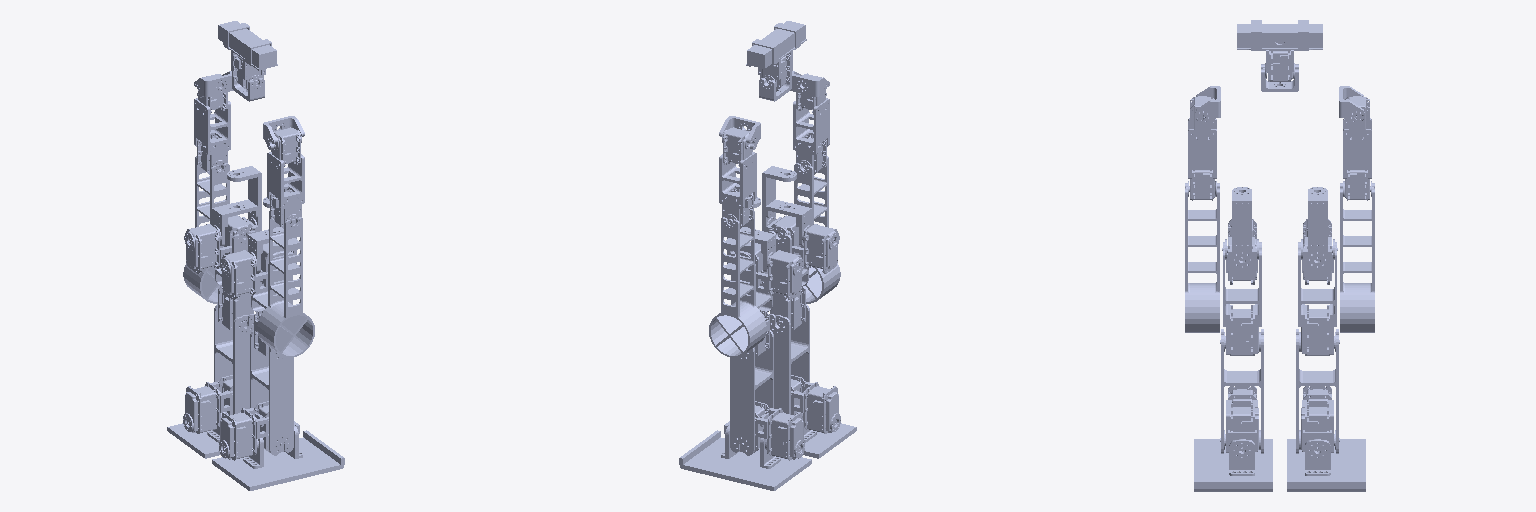
--- Render facts (derived) ---
The picture shows the robot from 3 angles, left to right: view 1: azimuth 30°, elevation 25°; view 2: azimuth 150°, elevation 25°; view 3: azimuth 270°, elevation 25°; orthographic projection.
Model kubot23W with 23 links and 22 joints (22 revolute), rooted at base_link, posed every joint at zero.
Visible links, largest first — view 1: R_hand_pitch, R_Knee, R_Foot, R_elbow_roll, L_Knee, L_elbow_roll, R_Ankle_pitch, head_pitch, L_hand_pitch, L_Hip_roll, L_Ankle_pitch, R_Hip_roll (+7 smaller); view 2: L_hand_pitch, L_Knee, L_Foot, L_elbow_roll, R_Knee, R_elbow_roll, L_Ankle_pitch, head_pitch, R_hand_pitch, R_Hip_roll, R_Ankle_pitch, L_Hip_roll (+7 smaller); view 3: L_hand_pitch, R_hand_pitch, head_pitch, L_Foot, R_Foot, L_Ankle_pitch, R_Ankle_pitch, R_Hip_pitch, L_Hip_pitch, L_elbow_roll, R_elbow_roll, L_Hip_yaw (+8 smaller).
Boxes of the visible links, left/top/right/bottom form: R_hand_pitch: left=257, top=211, right=314, bottom=357; R_Knee: left=250, top=330, right=293, bottom=455; R_Foot: left=212, top=430, right=344, bottom=490; R_elbow_roll: left=267, top=127, right=304, bottom=228; L_Knee: left=214, top=304, right=254, bottom=414; L_elbow_roll: left=194, top=74, right=230, bottom=174; R_Ankle_pitch: left=219, top=401, right=302, bottom=460; head_pitch: left=218, top=21, right=277, bottom=89; L_hand_pitch: left=183, top=156, right=229, bottom=303; L_Hip_roll: left=184, top=215, right=257, bottom=273; L_Ankle_pitch: left=183, top=375, right=232, bottom=433; R_Hip_roll: left=220, top=242, right=293, bottom=299; L_hand_pitch: left=709, top=211, right=766, bottom=357; L_Knee: left=730, top=330, right=773, bottom=455; L_Foot: left=679, top=430, right=811, bottom=490; L_elbow_roll: left=719, top=127, right=756, bottom=228; R_Knee: left=769, top=304, right=809, bottom=414; R_elbow_roll: left=793, top=73, right=829, bottom=174; L_Ankle_pitch: left=721, top=401, right=804, bottom=460; head_pitch: left=746, top=21, right=806, bottom=89; R_hand_pitch: left=794, top=156, right=840, bottom=303; R_Hip_roll: left=766, top=215, right=839, bottom=273; R_Ankle_pitch: left=791, top=375, right=840, bottom=433; L_Hip_roll: left=730, top=242, right=803, bottom=299; L_hand_pitch: left=1340, top=183, right=1374, bottom=332; R_hand_pitch: left=1185, top=183, right=1219, bottom=332; head_pitch: left=1237, top=20, right=1322, bottom=81; L_Foot: left=1287, top=439, right=1365, bottom=491; R_Foot: left=1194, top=439, right=1272, bottom=491; L_Ankle_pitch: left=1299, top=386, right=1339, bottom=475; R_Ankle_pitch: left=1220, top=386, right=1260, bottom=475; R_Hip_pitch: left=1220, top=242, right=1261, bottom=355; L_Hip_pitch: left=1298, top=242, right=1339, bottom=355; L_elbow_roll: left=1343, top=96, right=1373, bottom=200; R_elbow_roll: left=1186, top=96, right=1216, bottom=200; L_Hip_yaw: left=1308, top=187, right=1327, bottom=270.
Size in the robot's own frame: 0.1651 by 0.2643 by 0.6713 metres.
Meshes: 23 distinct files referenced, 22 mesh visuals loaded (22 binary STL); not drawn: 1 (reference not matched to a file when rendering).

URDF robot description (kubot23W):
<?xml version="1.0" encoding="utf-8"?>
<!-- This URDF was automatically created by SolidWorks to URDF Exporter! Originally created by Stephen Brawner ([email redacted]) 
     Commit Version: 1.6.0-1-g15f4949  Build Version: 1.6.7594.29634
     For more information, please see http://wiki.ros.org/sw_urdf_exporter -->
<robot
  name="kubot23W">
  <link
    name="base_link">
    <inertial>
      <origin
        xyz="-0.00019555 -5.8876E-06 -0.0016409"
        rpy="0 0 0" />
      <mass
        value="1.5013" />
      <inertia
        ixx="0.002447"
        ixy="0"
        ixz="0"
        iyy="0.0016369"
        iyz="0"
        izz="0.0026461" />
    </inertial>
    <visual>
      <origin
        xyz="0 0 0"
        rpy="0 0 0" />
      <geometry>
        <mesh
          filename="package://kubot23W/meshes/base_link.STL" />
      </geometry>
      <material
        name="">
        <color
          rgba="0.79216 0.81961 0.93333 1" />
      </material>
    </visual>
    <collision>
      <origin
        xyz="0 0 0"
        rpy="0 0 0" />
      <geometry>
        <mesh
          filename="package://kubot23W/meshes/base_link.STL" />
      </geometry>
    </collision>
  </link>
  <link
    name="L_Hip_yaw">
    <inertial>
      <origin
        xyz="0.0079905 7.3552E-16 0.037856"
        rpy="0 0 0" />
      <mass
        value="0.042373" />
      <inertia
        ixx="2.0934E-05"
        ixy="0"
        ixz="0"
        iyy="2.3301E-05"
        iyz="0"
        izz="8.0568E-06" />
    </inertial>
    <visual>
      <origin
        xyz="0 0 0"
        rpy="0 0 0" />
      <geometry>
        <mesh
          filename="package://kubot23W/meshes/L_Hip_yaw.STL" />
      </geometry>
      <material
        name="">
        <color
          rgba="0.79216 0.81961 0.93333 1" />
      </material>
    </visual>
    <collision>
      <origin
        xyz="0 0 0"
        rpy="0 0 0" />
      <geometry>
        <mesh
          filename="package://kubot23W/meshes/L_Hip_yaw.STL" />
      </geometry>
    </collision>
  </link>
  <joint
    name="L_Hip_yaw_joint"
    type="revolute">
    <origin
      xyz="0.036475 0.052758 -0.13016"
      rpy="0 0 0" />
    <parent
      link="base_link" />
    <child
      link="L_Hip_yaw" />
    <axis
      xyz="0 0 1" />
    <limit
      lower="0"
      upper="0"
      effort="0"
      velocity="0" />
  </joint>
  <link
    name="L_Hip_roll">
    <inertial>
      <origin
        xyz="-0.026534 3.8609E-05 -0.015186"
        rpy="0 0 0" />
      <mass
        value="0.16184" />
      <inertia
        ixx="5.7094E-05"
        ixy="0"
        ixz="0"
        iyy="5.6447E-05"
        iyz="0"
        izz="3.5594E-05" />
    </inertial>
    <visual>
      <origin
        xyz="0 0 0"
        rpy="0 0 0" />
      <geometry>
        <mesh
          filename="package://kubot23W/meshes/L_Hip_roll.STL" />
      </geometry>
      <material
        name="">
        <color
          rgba="0.79216 0.81961 0.93333 1" />
      </material>
    </visual>
    <collision>
      <origin
        xyz="0 0 0"
        rpy="0 0 0" />
      <geometry>
        <mesh
          filename="package://kubot23W/meshes/L_Hip_roll.STL" />
      </geometry>
    </collision>
  </link>
  <joint
    name="L_Hip_roll_joint"
    type="revolute">
    <origin
      xyz="0 0 0"
      rpy="0 0 0" />
    <parent
      link="L_Hip_yaw" />
    <child
      link="L_Hip_roll" />
    <axis
      xyz="-1 0 0" />
    <limit
      lower="0"
      upper="0"
      effort="0"
      velocity="0" />
  </joint>
  <link
    name="L_Hip_pitch">
    <inertial>
      <origin
        xyz="-0.00049308 0.00014975 -0.10339"
        rpy="0 0 0" />
      <mass
        value="0.13309" />
      <inertia
        ixx="0.00010704"
        ixy="0"
        ixz="0"
        iyy="7.9626E-05"
        iyz="0"
        izz="5.4203E-05" />
    </inertial>
    <visual>
      <origin
        xyz="0 0 0"
        rpy="0 0 0" />
      <geometry>
        <mesh
          filename="package://kubot23W/meshes/L_Hip_pitch.STL" />
      </geometry>
      <material
        name="">
        <color
          rgba="0.79216 0.81961 0.93333 1" />
      </material>
    </visual>
    <collision>
      <origin
        xyz="0 0 0"
        rpy="0 0 0" />
      <geometry>
        <mesh
          filename="package://kubot23W/meshes/L_Hip_pitch.STL" />
      </geometry>
    </collision>
  </link>
  <joint
    name="L_Hip_pitch_joint"
    type="revolute">
    <origin
      xyz="0 0 0"
      rpy="0 0 0" />
    <parent
      link="L_Hip_roll" />
    <child
      link="L_Hip_pitch" />
    <axis
      xyz="0 -1 0" />
    <limit
      lower="0"
      upper="0"
      effort="0"
      velocity="0" />
  </joint>
  <link
    name="L_Knee">
    <inertial>
      <origin
        xyz="-0.0008 0.0002 -0.071592"
        rpy="0 0 0" />
      <mass
        value="0.064192" />
      <inertia
        ixx="0.00017283"
        ixy="0"
        ixz="0"
        iyy="0.00013756"
        iyz="0"
        izz="5.3025E-05" />
    </inertial>
    <visual>
      <origin
        xyz="0 0 0"
        rpy="0 0 0" />
      <geometry>
        <mesh
          filename="package://kubot23W/meshes/L_Knee.STL" />
      </geometry>
      <material
        name="">
        <color
          rgba="0.79216 0.81961 0.93333 1" />
      </material>
    </visual>
    <collision>
      <origin
        xyz="0 0 0"
        rpy="0 0 0" />
      <geometry>
        <mesh
          filename="package://kubot23W/meshes/L_Knee.STL" />
      </geometry>
    </collision>
  </link>
  <joint
    name="L_Knee_joint"
    type="revolute">
    <origin
      xyz="0 0 -0.142"
      rpy="0 0 0" />
    <parent
      link="L_Hip_pitch" />
    <child
      link="L_Knee" />
    <axis
      xyz="0 -1 0" />
    <limit
      lower="0"
      upper="0"
      effort="0"
      velocity="0" />
  </joint>
  <link
    name="L_Ankle_pitch">
    <inertial>
      <origin
        xyz="-0.023428 0.00014947 0.013986"
        rpy="0 0 0" />
      <mass
        value="0.202" />
      <inertia
        ixx="8.0067E-05"
        ixy="0"
        ixz="0"
        iyy="7.8271E-05"
        iyz="0"
        izz="4.9146E-05" />
    </inertial>
    <visual>
      <origin
        xyz="0 0 0"
        rpy="0 0 0" />
      <geometry>
        <mesh
          filename="package://kubot23W/meshes/L_Ankle_pitch.STL" />
      </geometry>
      <material
        name="">
        <color
          rgba="0.79216 0.81961 0.93333 1" />
      </material>
    </visual>
    <collision>
      <origin
        xyz="0 0 0"
        rpy="0 0 0" />
      <geometry>
        <mesh
          filename="package://kubot23W/meshes/L_Ankle_pitch.STL" />
      </geometry>
    </collision>
  </link>
  <joint
    name="L_Ankle_pitch_joint"
    type="revolute">
    <origin
      xyz="0 0 -0.15"
      rpy="0 0 0" />
    <parent
      link="L_Knee" />
    <child
      link="L_Ankle_pitch" />
    <axis
      xyz="0 -1 0" />
    <limit
      lower="0"
      upper="0"
      effort="0"
      velocity="0" />
  </joint>
  <link
    name="L_Ankle_roll">
    <inertial>
      <origin
        xyz="-0.028824 0.0001 -0.014117"
        rpy="0 0 0" />
      <mass
        value="0.010759" />
      <inertia
        ixx="3.5206E-06"
        ixy="0"
        ixz="0"
        iyy="2.4389E-06"
        iyz="0"
        izz="1.2851E-06" />
    </inertial>
    <visual>
      <origin
        xyz="0 0 0"
        rpy="0 0 0" />
      <geometry>
        <mesh
          filename="package://kubot23W/meshes/L_Ankle_roll.STL" />
      </geometry>
      <material
        name="">
        <color
          rgba="0.79216 0.81961 0.93333 1" />
      </material>
    </visual>
    <collision>
      <origin
        xyz="0 0 0"
        rpy="0 0 0" />
      <geometry>
        <mesh
          filename="package://kubot23W/meshes/L_Ankle_roll.STL" />
      </geometry>
    </collision>
  </link>
  <joint
    name="L_Ankle_roll_joint"
    type="revolute">
    <origin
      xyz="0 0 0"
      rpy="0 0 0" />
    <parent
      link="L_Ankle_pitch" />
    <child
      link="L_Ankle_roll" />
    <axis
      xyz="-1 0 0" />
    <limit
      lower="0"
      upper="0"
      effort="0"
      velocity="0" />
  </joint>
  <link
    name="L_Foot">
    <inertial>
      <origin
        xyz="0.0059202 0.012819 0.0039506"
        rpy="0 0 0" />
      <mass
        value="0.12872" />
      <inertia
        ixx="0.00013117"
        ixy="0"
        ixz="0"
        iyy="0.00029696"
        iyz="0"
        izz="0.00042612" />
    </inertial>
    <visual>
      <origin
        xyz="0 0 0"
        rpy="0 0 0" />
      <geometry>
        <mesh
          filename="package://kubot23W/meshes/L_Foot.STL" />
      </geometry>
      <material
        name="">
        <color
          rgba="0.79216 0.81961 0.93333 1" />
      </material>
    </visual>
    <collision>
      <origin
        xyz="0 0 0"
        rpy="0 0 0" />
      <geometry>
        <mesh
          filename="package://kubot23W/meshes/L_Foot.STL" />
      </geometry>
    </collision>
  </link>
  <joint
    name="L_Foot_joint"
    type="revolute">
    <origin
      xyz="0 0 -0.042"
      rpy="0 0 0" />
    <parent
      link="L_Ankle_roll" />
    <child
      link="L_Foot" />
    <axis
      xyz="0 0 1" />
    <limit
      lower="0"
      upper="0"
      effort="0"
      velocity="0" />
  </joint>
  <link
    name="R_Hip_yaw">
    <inertial>
      <origin
        xyz="0.0079905 -7.6661E-09 0.037856"
        rpy="0 0 0" />
      <mass
        value="0.042373" />
      <inertia
        ixx="2.0934E-05"
        ixy="0"
        ixz="0"
        iyy="2.3301E-05"
        iyz="0"
        izz="8.0568E-06" />
    </inertial>
    <visual>
      <origin
        xyz="0 0 0"
        rpy="0 0 0" />
      <geometry>
        <mesh
          filename="package://kubot23W/meshes/R_Hip_yaw.STL" />
      </geometry>
      <material
        name="">
        <color
          rgba="0.79216 0.81961 0.93333 1" />
      </material>
    </visual>
    <collision>
      <origin
        xyz="0 0 0"
        rpy="0 0 0" />
      <geometry>
        <mesh
          filename="package://kubot23W/meshes/R_Hip_yaw.STL" />
      </geometry>
    </collision>
  </link>
  <joint
    name="R_Hip_yaw_joint"
    type="revolute">
    <origin
      xyz="0.036475 -0.051842 -0.13016"
      rpy="0 0 0" />
    <parent
      link="base_link" />
    <child
      link="R_Hip_yaw" />
    <axis
      xyz="0 0 1" />
    <limit
      lower="0"
      upper="0"
      effort="0"
      velocity="0" />
  </joint>
  <link
    name="R_Hip_roll">
    <inertial>
      <origin
        xyz="-0.026534 -3.8626E-05 -0.015186"
        rpy="0 0 0" />
      <mass
        value="0.16184" />
      <inertia
        ixx="5.7094E-05"
        ixy="0"
        ixz="0"
        iyy="5.6447E-05"
        iyz="0"
        izz="3.5594E-05" />
    </inertial>
    <visual>
      <origin
        xyz="0 0 0"
        rpy="0 0 0" />
      <geometry>
        <mesh
          filename="package://kubot23W/meshes/R_Hip_roll.STL" />
      </geometry>
      <material
        name="">
        <color
          rgba="0.79216 0.81961 0.93333 1" />
      </material>
    </visual>
    <collision>
      <origin
        xyz="0 0 0"
        rpy="0 0 0" />
      <geometry>
        <mesh
          filename="package://kubot23W/meshes/R_Hip_roll.STL" />
      </geometry>
    </collision>
  </link>
  <joint
    name="R_Hip_roll_joint"
    type="revolute">
    <origin
      xyz="0 0 0"
      rpy="0 0 0" />
    <parent
      link="R_Hip_yaw" />
    <child
      link="R_Hip_roll" />
    <axis
      xyz="-1 0 0" />
    <limit
      lower="0"
      upper="0"
      effort="0"
      velocity="0" />
  </joint>
  <link
    name="R_Hip_pitch">
    <inertial>
      <origin
        xyz="-0.0004978 -0.00014978 -0.10339"
        rpy="0 0 0" />
      <mass
        value="0.13309" />
      <inertia
        ixx="0.00010704"
        ixy="0"
        ixz="0"
        iyy="7.9626E-05"
        iyz="0"
        izz="5.4203E-05" />
    </inertial>
    <visual>
      <origin
        xyz="0 0 0"
        rpy="0 0 0" />
      <geometry>
        <mesh
          filename="package://kubot23W/meshes/R_Hip_pitch.STL" />
      </geometry>
      <material
        name="">
        <color
          rgba="0.79216 0.81961 0.93333 1" />
      </material>
    </visual>
    <collision>
      <origin
        xyz="0 0 0"
        rpy="0 0 0" />
      <geometry>
        <mesh
          filename="package://kubot23W/meshes/R_Hip_pitch.STL" />
      </geometry>
    </collision>
  </link>
  <joint
    name="R_Hip_pitch_joint"
    type="revolute">
    <origin
      xyz="0 0 0"
      rpy="0 0 0" />
    <parent
      link="R_Hip_roll" />
    <child
      link="R_Hip_pitch" />
    <axis
      xyz="0 1 0" />
    <limit
      lower="0"
      upper="0"
      effort="0"
      velocity="0" />
  </joint>
  <link
    name="R_Knee">
    <inertial>
      <origin
        xyz="-0.0008 -0.00020005 -0.071592"
        rpy="0 0 0" />
      <mass
        value="0.064192" />
      <inertia
        ixx="0.00017283"
        ixy="0"
        ixz="0"
        iyy="0.00013756"
        iyz="0"
        izz="5.3025E-05" />
    </inertial>
    <visual>
      <origin
        xyz="0 0 0"
        rpy="0 0 0" />
      <geometry>
        <mesh
          filename="package://kubot23W/meshes/R_Knee.STL" />
      </geometry>
      <material
        name="">
        <color
          rgba="0.79216 0.81961 0.93333 1" />
      </material>
    </visual>
    <collision>
      <origin
        xyz="0 0 0"
        rpy="0 0 0" />
      <geometry>
        <mesh
          filename="package://kubot23W/meshes/R_Knee.STL" />
      </geometry>
    </collision>
  </link>
  <joint
    name="R_Knee_joint"
    type="revolute">
    <origin
      xyz="0 0 -0.142"
      rpy="0 0 0" />
    <parent
      link="R_Hip_pitch" />
    <child
      link="R_Knee" />
    <axis
      xyz="0 1 0" />
    <limit
      lower="0"
      upper="0"
      effort="0"
      velocity="0" />
  </joint>
  <link
    name="R_Ankle_pitch">
    <inertial>
      <origin
        xyz="-0.023731 -0.00015295 0.01407"
        rpy="0 0 0" />
      <mass
        value="0.20079" />
      <inertia
        ixx="7.9929E-05"
        ixy="0"
        ixz="0"
        iyy="7.8201E-05"
        iyz="0"
        izz="4.9077E-05" />
    </inertial>
    <visual>
      <origin
        xyz="0 0 0"
        rpy="0 0 0" />
      <geometry>
        <mesh
          filename="package://kubot23W/meshes/R_Ankle_pitch.STL" />
      </geometry>
      <material
        name="">
        <color
          rgba="0.79216 0.81961 0.93333 1" />
      </material>
    </visual>
    <collision>
      <origin
        xyz="0 0 0"
        rpy="0 0 0" />
      <geometry>
        <mesh
          filename="package://kubot23W/meshes/R_Ankle_pitch.STL" />
      </geometry>
    </collision>
  </link>
  <joint
    name="R_Ankle_pitch_joint"
    type="revolute">
    <origin
      xyz="0 0 -0.15"
      rpy="0 0 0" />
    <parent
      link="R_Knee" />
    <child
      link="R_Ankle_pitch" />
    <axis
      xyz="0 1 0" />
    <limit
      lower="0"
      upper="0"
      effort="0"
      velocity="0" />
  </joint>
  <link
    name="R_Ankle_roll">
    <inertial>
      <origin
        xyz="-0.028824 -0.00010006 -0.014117"
        rpy="0 0 0" />
      <mass
        value="0.010759" />
      <inertia
        ixx="3.5206E-06"
        ixy="0"
        ixz="0"
        iyy="2.4389E-06"
        iyz="0"
        izz="1.2851E-06" />
    </inertial>
    <visual>
      <origin
        xyz="0 0 0"
        rpy="0 0 0" />
      <geometry>
        <mesh
          filename="package://kubot23W/meshes/R_Ankle_roll.STL" />
      </geometry>
      <material
        name="">
        <color
          rgba="0.79216 0.81961 0.93333 1" />
      </material>
    </visual>
    <collision>
      <origin
        xyz="0 0 0"
        rpy="0 0 0" />
      <geometry>
        <mesh
          filename="package://kubot23W/meshes/R_Ankle_roll.STL" />
      </geometry>
    </collision>
  </link>
  <joint
    name="R_Ankle_roll_joint"
    type="revolute">
    <origin
      xyz="0 0 0"
      rpy="0 0 0" />
    <parent
      link="R_Ankle_pitch" />
    <child
      link="R_Ankle_roll" />
    <axis
      xyz="-1 0 0" />
    <limit
      lower="0"
      upper="0"
      effort="0"
      velocity="0" />
  </joint>
  <link
    name="R_Foot">
    <inertial>
      <origin
        xyz="0.0059202 -0.012819 0.0039506"
        rpy="0 0 0" />
      <mass
        value="0.12872" />
      <inertia
        ixx="0.00013117"
        ixy="0"
        ixz="0"
        iyy="0.00029696"
        iyz="0"
        izz="0.00042612" />
    </inertial>
    <visual>
      <origin
        xyz="0 0 0"
        rpy="0 0 0" />
      <geometry>
        <mesh
          filename="package://kubot23W/meshes/R_Foot.STL" />
      </geometry>
      <material
        name="">
        <color
          rgba="0.79216 0.81961 0.93333 1" />
      </material>
    </visual>
    <collision>
      <origin
        xyz="0 0 0"
        rpy="0 0 0" />
      <geometry>
        <mesh
          filename="package://kubot23W/meshes/R_Foot.STL" />
      </geometry>
    </collision>
  </link>
  <joint
    name="R_Foot_joint"
    type="revolute">
    <origin
      xyz="0 0 -0.042"
      rpy="0 0 0" />
    <parent
      link="R_Ankle_roll" />
    <child
      link="R_Foot" />
    <axis
      xyz="0 0 1" />
    <limit
      lower="0"
      upper="0"
      effort="0"
      velocity="0" />
  </joint>
  <link
    name="L_shoulder_pitch">
    <inertial>
      <origin
        xyz="9.7314E-10 0.010248 -0.0016377"
        rpy="0 0 0" />
      <mass
        value="0.014469" />
      <inertia
        ixx="2.0393E-06"
        ixy="0"
        ixz="0"
        iyy="6.5772E-06"
        iyz="0"
        izz="6.757E-06" />
    </inertial>
    <visual>
      <origin
        xyz="0 0 0"
        rpy="0 0 0" />
      <geometry>
        <mesh
          filename="package://kubot23W/meshes/L_shoulder_pitch.STL" />
      </geometry>
      <material
        name="">
        <color
          rgba="0.79216 0.81961 0.93333 1" />
      </material>
    </visual>
    <collision>
      <origin
        xyz="0 0 0"
        rpy="0 0 0" />
      <geometry>
        <mesh
          filename="package://kubot23W/meshes/L_shoulder_pitch.STL" />
      </geometry>
    </collision>
  </link>
  <joint
    name="L_shoulder_pitch_joint"
    type="revolute">
    <origin
      xyz="0.027975 0.082208 0.091918"
      rpy="0 0 0" />
    <parent
      link="base_link" />
    <child
      link="L_shoulder_pitch" />
    <axis
      xyz="0 -1 0" />
    <limit
      lower="0"
      upper="0"
      effort="0"
      velocity="0" />
  </joint>
  <link
    name="L_elbow_roll">
    <inertial>
      <origin
        xyz="-0.02074 1.0217E-05 -0.061881"
        rpy="0 0 0" />
      <mass
        value="0.12312" />
      <inertia
        ixx="4.1405E-05"
        ixy="0"
        ixz="0"
        iyy="4.4134E-05"
        iyz="0"
        izz="2.9326E-05" />
    </inertial>
    <visual>
      <origin
        xyz="0 0 0"
        rpy="0 0 0" />
      <geometry>
        <mesh
          filename="package://kubot23W/meshes/L_elbow_roll.STL" />
      </geometry>
      <material
        name="">
        <color
          rgba="0.79216 0.81961 0.93333 1" />
      </material>
    </visual>
    <collision>
      <origin
        xyz="0 0 0"
        rpy="0 0 0" />
      <geometry>
        <mesh
          filename="package://kubot23W/meshes/L_elbow_roll.STL" />
      </geometry>
    </collision>
  </link>
  <joint
    name="L_elbow_roll_joint"
    type="revolute">
    <origin
      xyz="0.020275 0.025656 -0.01045"
      rpy="0 0 0" />
    <parent
      link="L_shoulder_pitch" />
    <child
      link="L_elbow_roll" />
    <axis
      xyz="-1 0 0" />
    <limit
      lower="0"
      upper="0"
      effort="0"
      velocity="0" />
  </joint>
  <link
    name="L_hand_pitch">
    <inertial>
      <origin
        xyz="1.6376E-15 -0.020275 -0.13605"
        rpy="0 0 0" />
      <mass
        value="0.085842" />
      <inertia
        ixx="0.00035605"
        ixy="0"
        ixz="0"
        iyy="0.00035569"
        iyz="0"
        izz="4.765E-05" />
    </inertial>
    <visual>
      <origin
        xyz="0 0 0"
        rpy="0 0 0" />
      <geometry>
        <mesh
          filename="package://kubot23W/meshes/L_hand_pitch.STL" />
      </geometry>
      <material
        name="">
        <color
          rgba="0.79216 0.81961 0.93333 1" />
      </material>
    </visual>
    <collision>
      <origin
        xyz="0 0 0"
        rpy="0 0 0" />
      <geometry>
        <mesh
          filename="package://kubot23W/meshes/L_hand_pitch.STL" />
      </geometry>
    </collision>
  </link>
  <joint
    name="L_hand_pitch_joint"
    type="revolute">
    <origin
      xyz="-0.02075 0.02075 -0.1231"
      rpy="0 0 0" />
    <parent
      link="L_elbow_roll" />
    <child
      link="L_hand_pitch" />
    <axis
      xyz="0 -1 0" />
    <limit
      lower="0"
      upper="0"
      effort="0"
      velocity="0" />
  </joint>
  <link
    name="R_shoulder_pitch">
    <inertial>
      <origin
        xyz="-9.7314E-10 -0.010248 -0.0016377"
        rpy="0 0 0" />
      <mass
        value="0.014469" />
      <inertia
        ixx="2.0393E-06"
        ixy="0"
        ixz="0"
        iyy="6.5772E-06"
        iyz="0"
        izz="6.757E-06" />
    </inertial>
    <visual>
      <origin
        xyz="0 0 0"
        rpy="0 0 0" />
      <geometry>
        <mesh
          filename="package://kubot23W/meshes/R_shoulder_pitch.STL" />
      </geometry>
      <material
        name="">
        <color
          rgba="0.79216 0.81961 0.93333 1" />
      </material>
    </visual>
    <collision>
      <origin
        xyz="0 0 0"
        rpy="0 0 0" />
      <geometry>
        <mesh
          filename="package://kubot23W/meshes/R_shoulder_pitch.STL" />
      </geometry>
    </collision>
  </link>
  <joint
    name="R_shoulder_pitch_joint"
    type="revolute">
    <origin
      xyz="0.027975 -0.081292 0.091918"
      rpy="0 0 0" />
    <parent
      link="base_link" />
    <child
      link="R_shoulder_pitch" />
    <axis
      xyz="0 1 0" />
    <limit
      lower="0"
      upper="0"
      effort="0"
      velocity="0" />
  </joint>
  <link
    name="R_elbow_roll">
    <inertial>
      <origin
        xyz="-0.020741 -8.7962E-06 -0.061881"
        rpy="0 0 0" />
      <mass
        value="0.12312" />
      <inertia
        ixx="4.1405E-05"
        ixy="0"
        ixz="0"
        iyy="4.4134E-05"
        iyz="0"
        izz="2.9326E-05" />
    </inertial>
    <visual>
      <origin
        xyz="0 0 0"
        rpy="0 0 0" />
      <geometry>
        <mesh
          filename="package://kubot23W/meshes/R_elbow_roll.STL" />
      </geometry>
      <material
        name="">
        <color
          rgba="0.79216 0.81961 0.93333 1" />
      </material>
    </visual>
    <collision>
      <origin
        xyz="0 0 0"
        rpy="0 0 0" />
      <geometry>
        <mesh
          filename="package://kubot23W/meshes/R_elbow_roll.STL" />
      </geometry>
    </collision>
  </link>
  <joint
    name="R_elbow_roll_joint"
    type="revolute">
    <origin
      xyz="0.020275 -0.025656 -0.01045"
      rpy="0 0 0" />
    <parent
      link="R_shoulder_pitch" />
    <child
      link="R_elbow_roll" />
    <axis
      xyz="-1 0 0" />
    <limit
      lower="0"
      upper="0"
      effort="0"
      velocity="0" />
  </joint>
  <link
    name="R_hand_pitch">
    <inertial>
      <origin
        xyz="-6.9389E-16 0.020275 -0.13605"
        rpy="0 0 0" />
      <mass
        value="0.085842" />
      <inertia
        ixx="0.00035605"
        ixy="0"
        ixz="0"
        iyy="0.00035569"
        iyz="0"
        izz="4.765E-05" />
    </inertial>
    <visual>
      <origin
        xyz="0 0 0"
        rpy="0 0 0" />
      <geometry>
        <mesh
          filename="package://kubot23W/meshes/R_hand_pitch.STL" />
      </geometry>
      <material
        name="">
        <color
          rgba="0.79216 0.81961 0.93333 1" />
      </material>
    </visual>
    <collision>
      <origin
        xyz="0 0 0"
        rpy="0 0 0" />
      <geometry>
        <mesh
          filename="package://kubot23W/meshes/R_hand_pitch.STL" />
      </geometry>
    </collision>
  </link>
  <joint
    name="R_hand_pitch_joint"
    type="revolute">
    <origin
      xyz="-0.02075 -0.02075 -0.1231"
      rpy="0 0 0" />
    <parent
      link="R_elbow_roll" />
    <child
      link="R_hand_pitch" />
    <axis
      xyz="0 1 0" />
    <limit
      lower="0"
      upper="0"
      effort="0"
      velocity="0" />
  </joint>
  <link
    name="Neck_yaw">
    <inertial>
      <origin
        xyz="1.0547E-15 1.4294E-15 0.010333"
        rpy="0 0 0" />
      <mass
        value="0.014237" />
      <inertia
        ixx="6.6446E-06"
        ixy="0"
        ixz="0"
        iyy="1.9564E-06"
        iyz="0"
        izz="6.2867E-06" />
    </inertial>
    <visual>
      <origin
        xyz="0 0 0"
        rpy="0 0 0" />
      <geometry>
        <mesh
          filename="package://kubot23W/meshes/Neck_yaw.STL" />
      </geometry>
      <material
        name="">
        <color
          rgba="0.79216 0.81961 0.93333 1" />
      </material>
    </visual>
    <collision>
      <origin
        xyz="0 0 0"
        rpy="0 0 0" />
      <geometry>
        <mesh
          filename="package://kubot23W/meshes/Neck_yaw.STL" />
      </geometry>
    </collision>
  </link>
  <joint
    name="Neck_yaw_joint"
    type="revolute">
    <origin
      xyz="0.026225 0.00045775 0.11187"
      rpy="0 0 0" />
    <parent
      link="base_link" />
    <child
      link="Neck_yaw" />
    <axis
      xyz="0 0 -1" />
    <limit
      lower="0"
      upper="0"
      effort="0"
      velocity="0" />
  </joint>
  <link
    name="head_pitch">
    <inertial>
      <origin
        xyz="-0.00087615 -0.0004928 0.038502"
        rpy="0 0 0" />
      <mass
        value="0.14082" />
      <inertia
        ixx="0.0001309"
        ixy="0"
        ixz="0"
        iyy="2.5779E-05"
        iyz="0"
        izz="0.00012811" />
    </inertial>
    <visual>
      <origin
        xyz="0 0 0"
        rpy="0 0 0" />
      <geometry>
        <mesh
          filename="package://kubot23W/meshes/head_pitch.STL" />
      </geometry>
      <material
        name="">
        <color
          rgba="0.79216 0.81961 0.93333 1" />
      </material>
    </visual>
    <collision>
      <origin
        xyz="0 0 0"
        rpy="0 0 0" />
      <geometry>
        <mesh
          filename="package://kubot23W/meshes/head_pitch.STL" />
      </geometry>
    </collision>
  </link>
  <joint
    name="head_pitch_joint"
    type="revolute">
    <origin
      xyz="0 0 0.0275"
      rpy="0 0 0" />
    <parent
      link="Neck_yaw" />
    <child
      link="head_pitch" />
    <axis
      xyz="0 1 0" />
    <limit
      lower="0"
      upper="0"
      effort="0"
      velocity="0" />
  </joint>
</robot>
